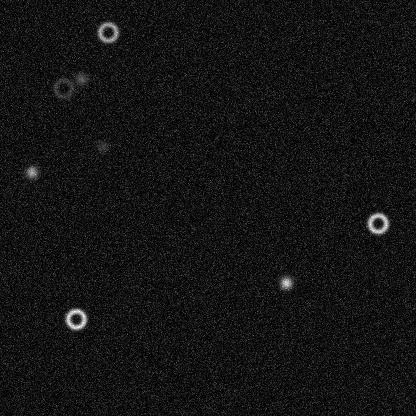Ring: (63, 306, 87, 330), (95, 20, 119, 44), (51, 76, 75, 100), (365, 211, 389, 235)
Spot: (73, 70, 89, 86), (278, 274, 294, 290), (23, 164, 39, 180), (94, 138, 110, 154)
